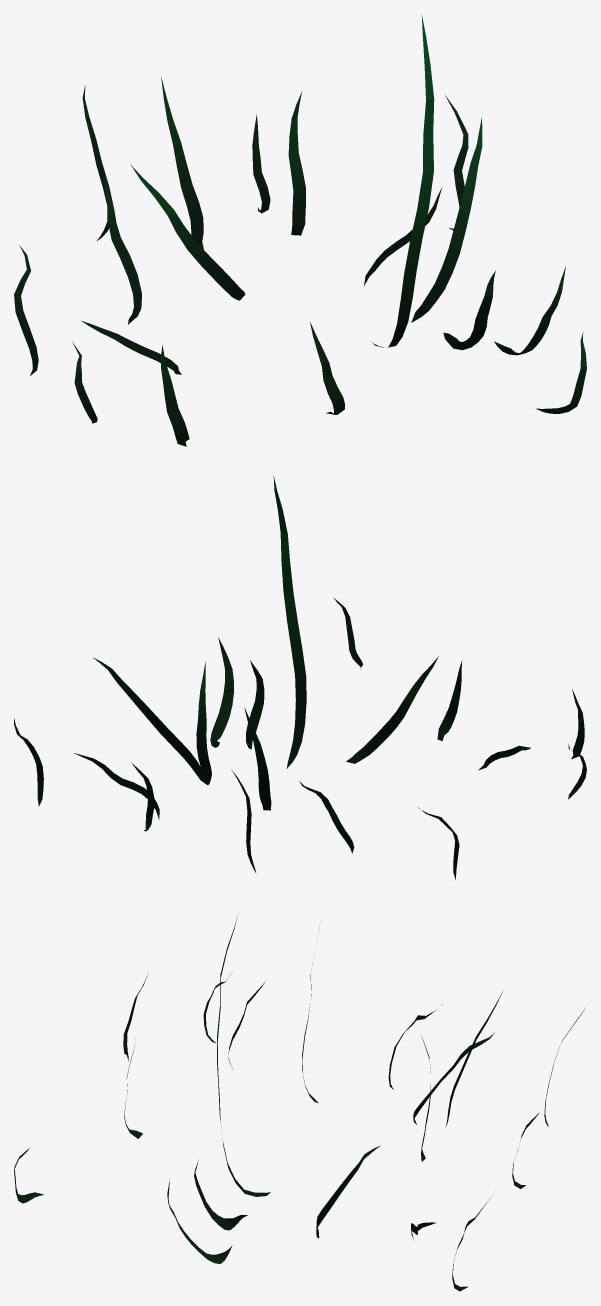
File: Grass02.fbx
3 views of the same model, one above another, from view 1: azimuth 30°, elevation 25°; view 2: azimuth 150°, elevation 25°; view 3: azimuth 270°, elevation 25° (orthographic). The views are drawn at different scales.
Visible parts, largest first — view 1: Grass002; view 2: Grass002; view 3: Grass002.
Boxes of the visible parts, bbox=[...] form: Grass002: bbox=[14, 15, 586, 446]; Grass002: bbox=[14, 476, 586, 879]; Grass002: bbox=[14, 916, 585, 1291].
Size of the model in its own units: 1.01 by 0.6327 by 1.04.
